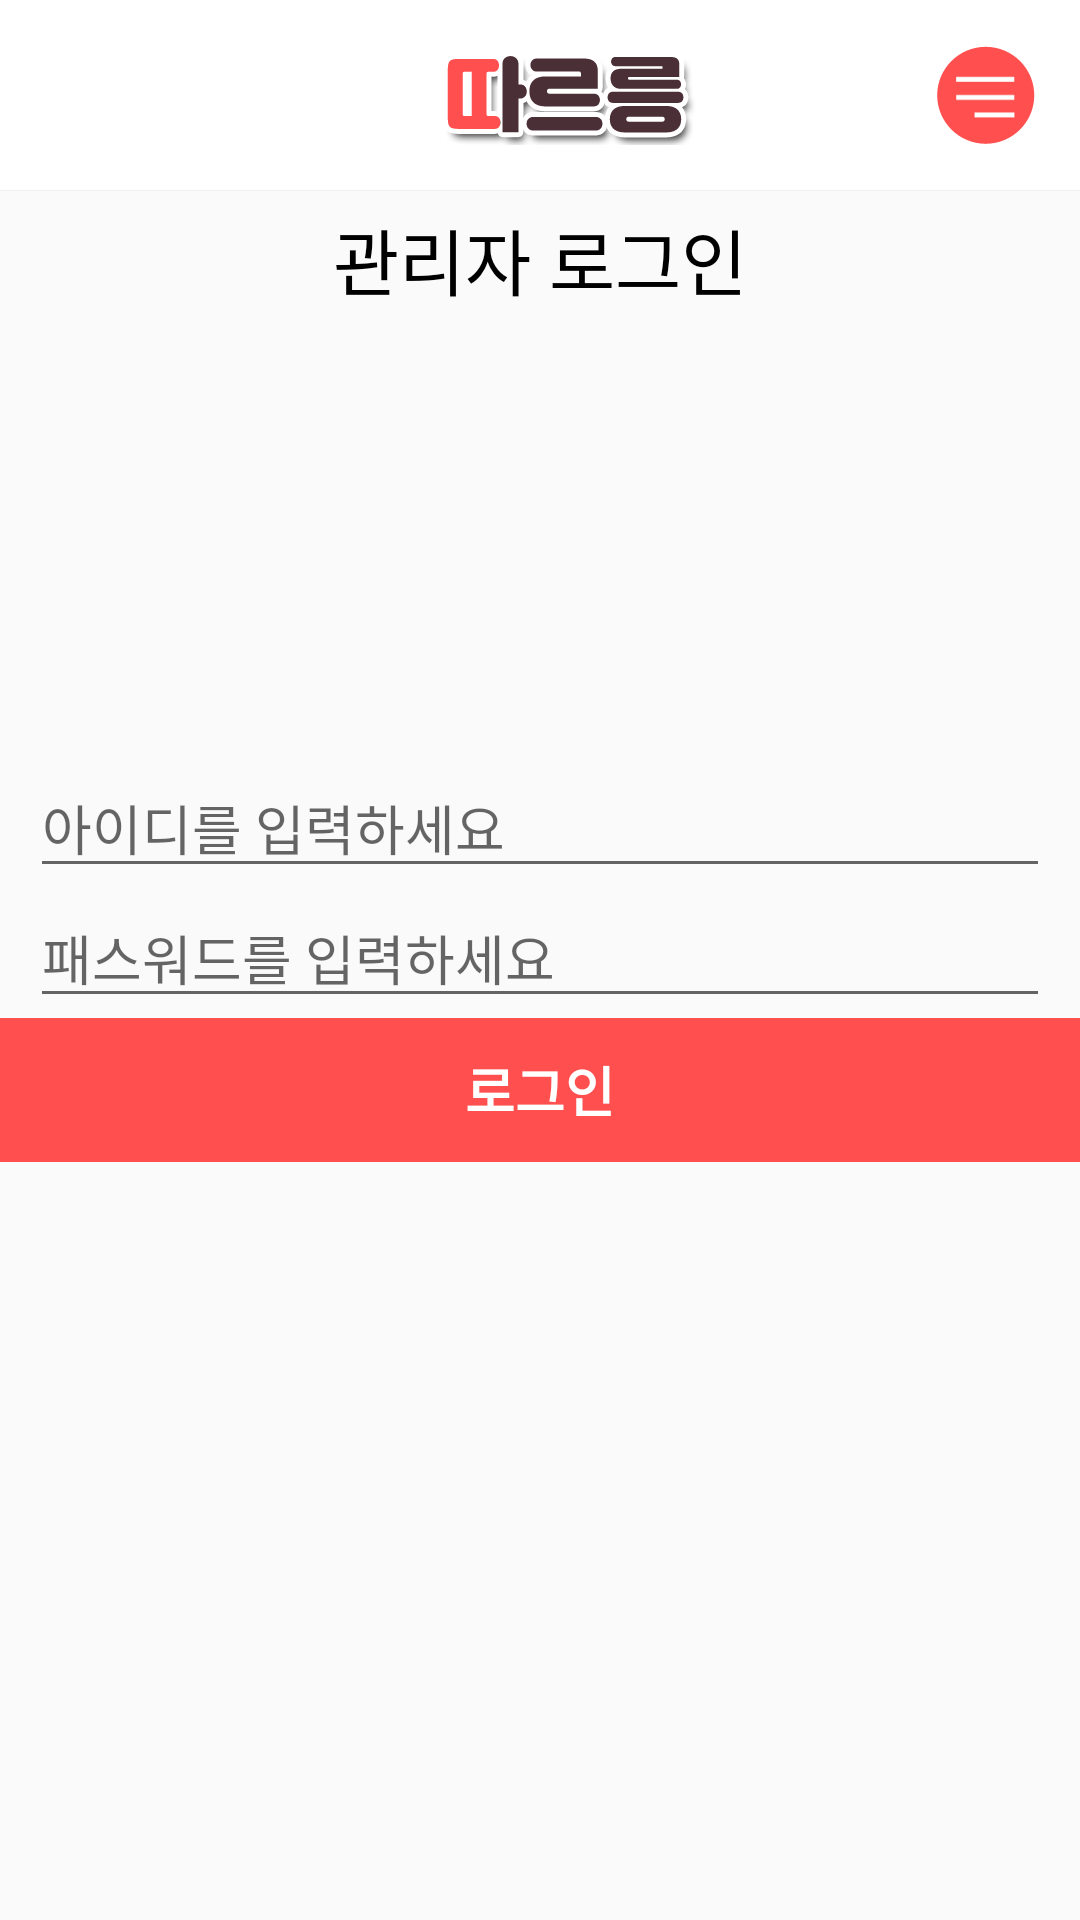

Where to tap for icons on this 1080*1920 app screen, as (x,y):
hd wing menu: (986,95)
